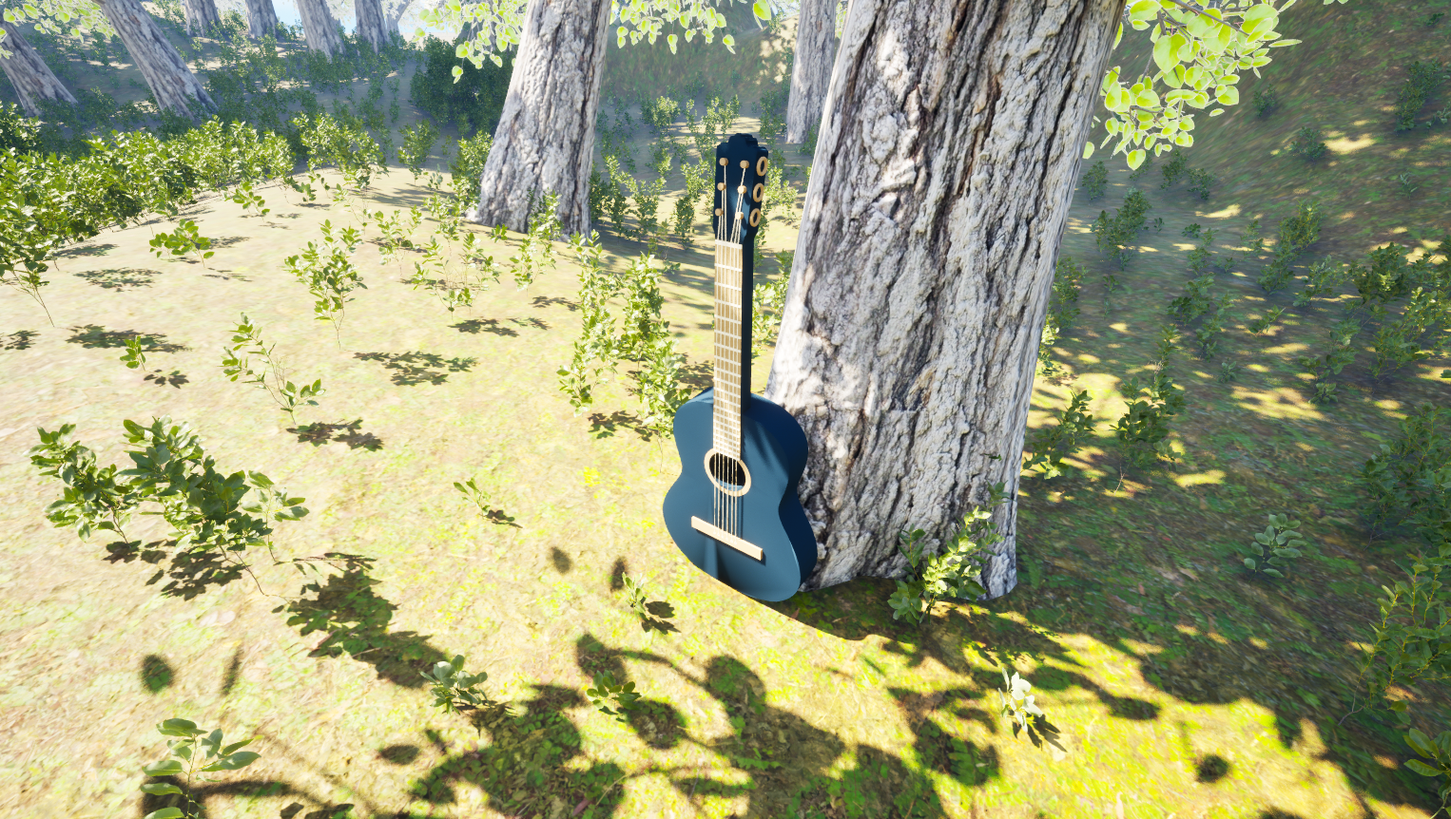Guitar: (632, 119, 864, 624)
